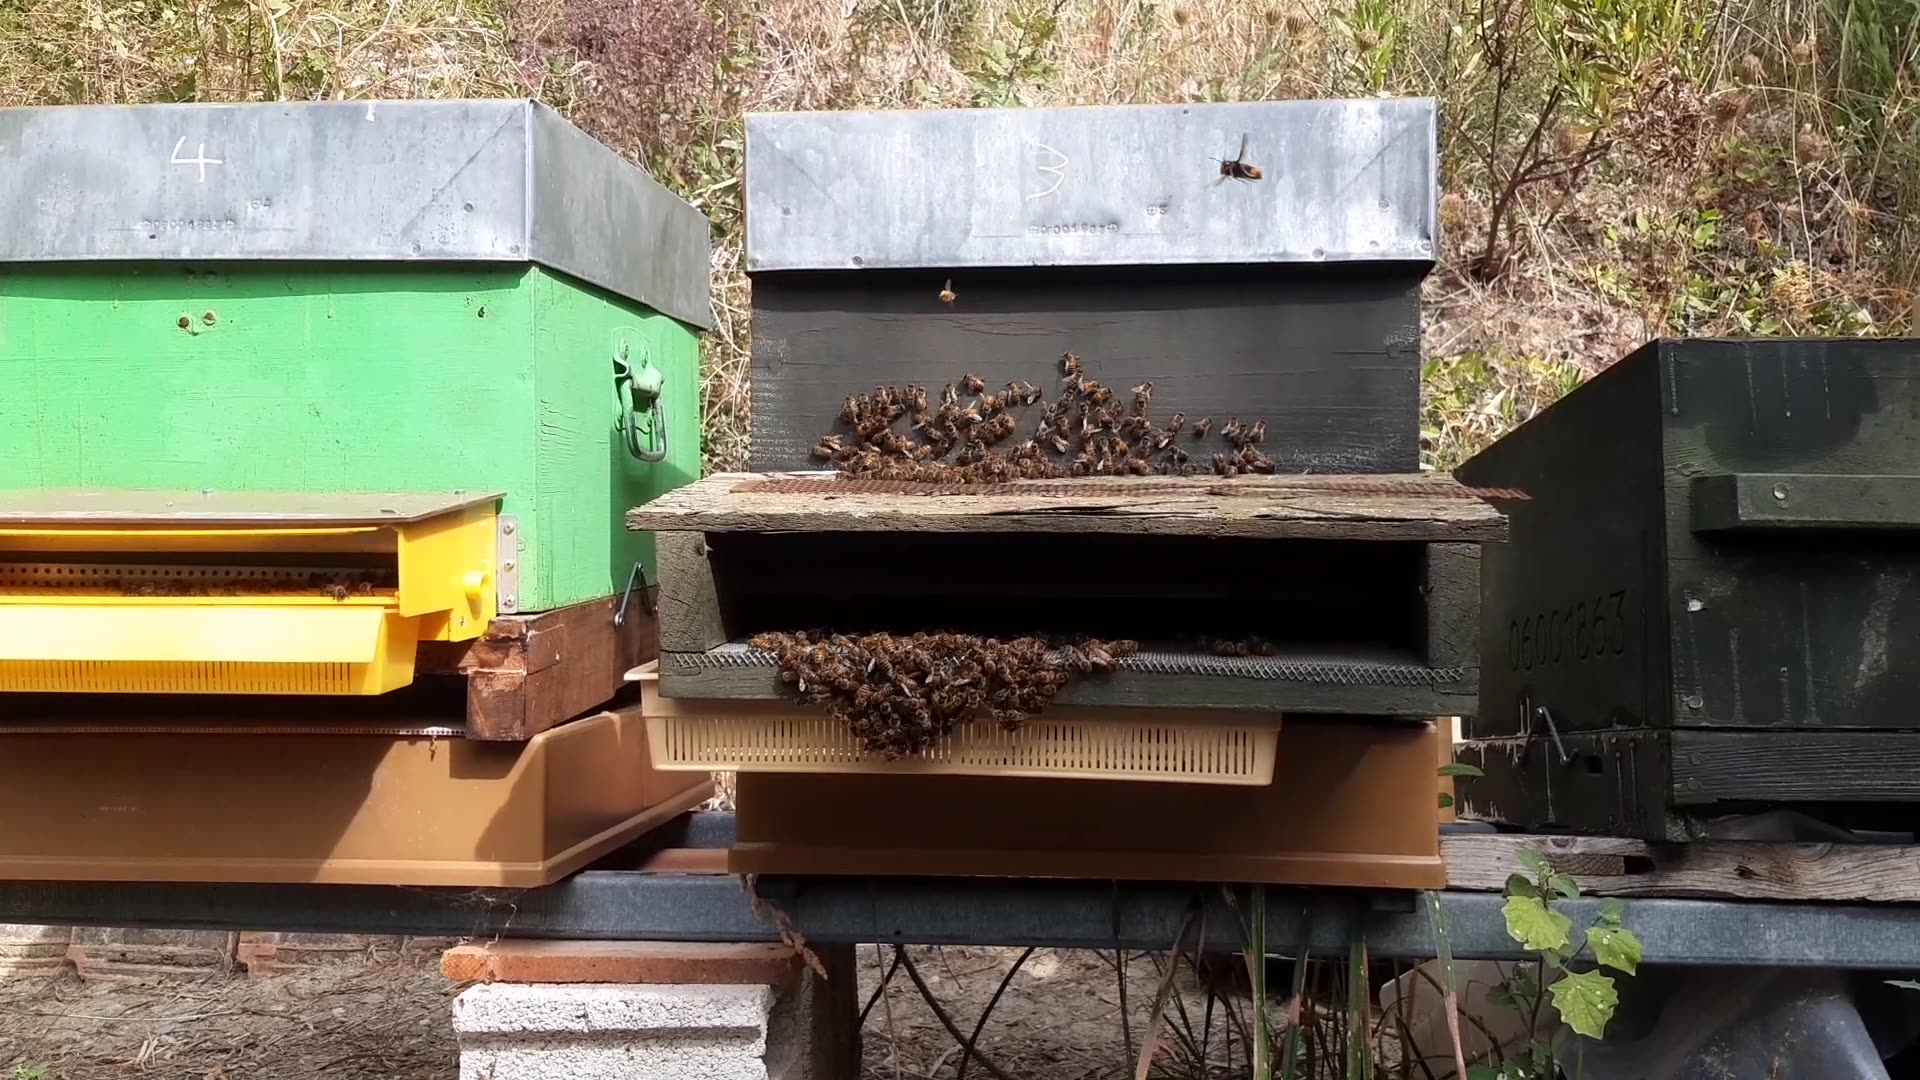bee: (1017, 634, 1137, 680), (742, 634, 831, 691), (860, 695, 924, 764), (1193, 421, 1269, 477), (829, 405, 899, 454), (1127, 414, 1200, 460), (1058, 375, 1112, 419), (963, 436, 1017, 479), (918, 282, 978, 316), (976, 392, 1031, 425)
